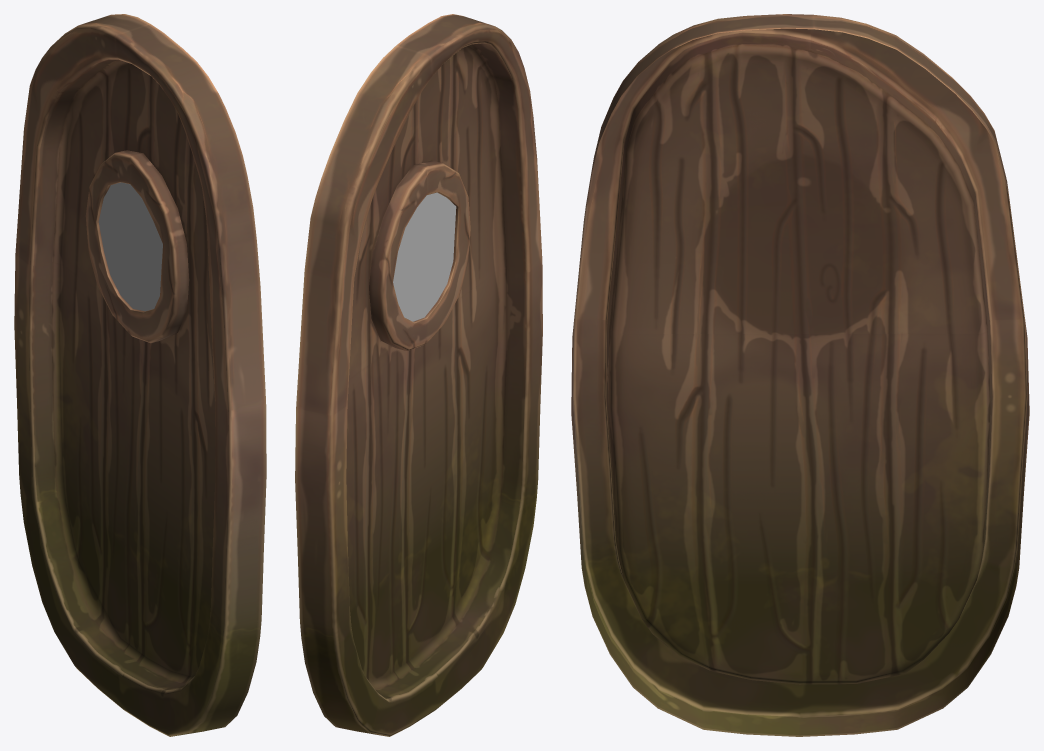
Rendered from SM_Door_03.fbx.
3 renders of one model, left to right at view 1: azimuth 30°, elevation 25°; view 2: azimuth 150°, elevation 25°; view 3: azimuth 270°, elevation 25°, orthographic. The views are drawn at different scales.
Parts seen in each view (by area): view 1: SM_Door_03_LOD0; view 2: SM_Door_03_LOD0; view 3: SM_Door_03_LOD0.
Boxes of the visible parts, bbox=[...] form: SM_Door_03_LOD0: bbox=[14, 14, 266, 736]; SM_Door_03_LOD0: bbox=[295, 14, 542, 736]; SM_Door_03_LOD0: bbox=[571, 14, 1029, 736].
Bounding box in the file's own units: 13.71 × 145 × 247.
2 materials, 1 textured.
